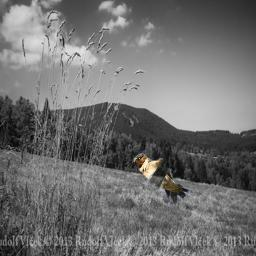Swallow: (132, 153, 190, 204)
